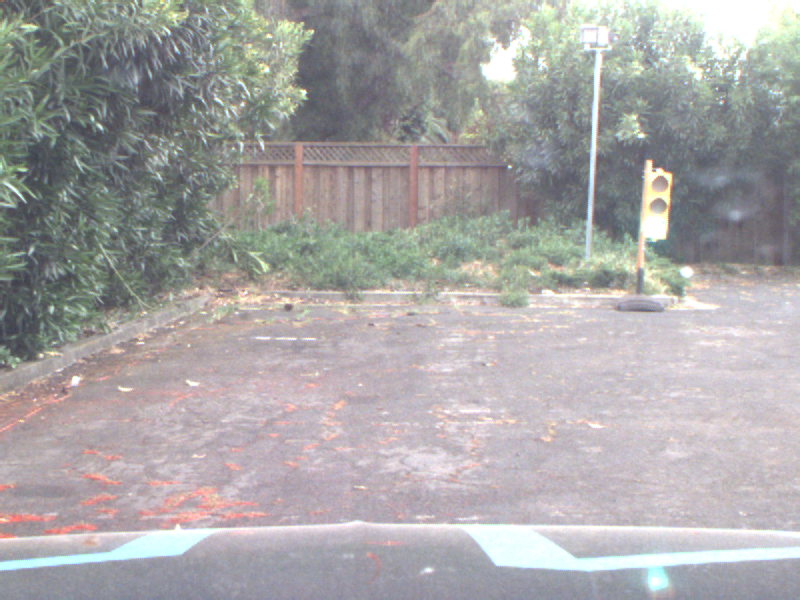Green: (645, 170, 669, 241)
